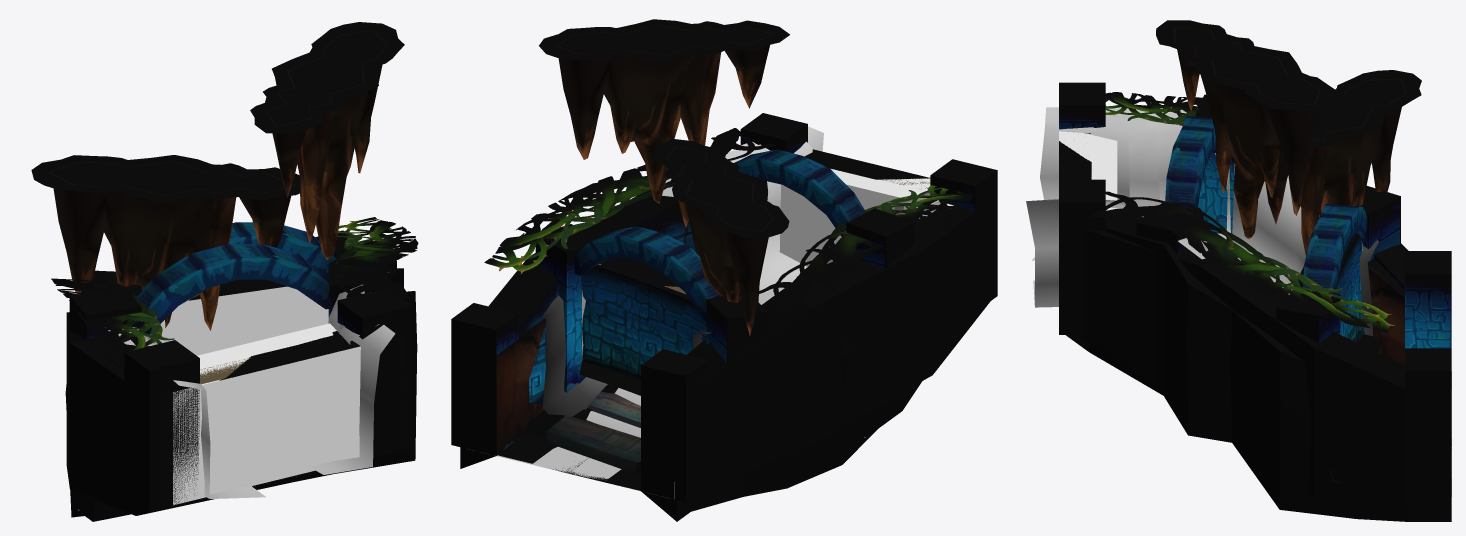
File: Dungeon_051_GoalStepD_003.fbx
The picture shows the model from 3 angles, left to right: view 1: azimuth 30°, elevation 25°; view 2: azimuth 150°, elevation 25°; view 3: azimuth 270°, elevation 25°; orthographic projection. The views are drawn at different scales.
Visible parts, largest first — view 1: DoorWay_NavMask (1) (×3), Dungeon_011_Iwa004_1, Dungeon_011_Iwa004_1 (1), Dun_051_StepD_001_Pillar, Dan1 (×3), Dun_051_StepD_001_Wall, Dun_051_Door_002_Arch (1) (×2), Dungeon_021_Tsuta_002, Dungeon_021_Tsuta_001, Dun_051_Door_002 (×2), Dun_011_Door_002_old, Dun_011_Door_003_WarpRoom; view 2: Dun_051_StepD_001_Wall, Dun_051_StepD_001_Pillar, Dungeon_011_Iwa004_1 (1), Dan1, Dungeon_011_Iwa004_1, Dun_051_Door_002 (×2), Dungeon_021_Tsuta_002, Dun_051_Door_002_Arch (1) (×2), Dungeon_021_Tsuta_001, DoorWay_NavMask (1), Dun_051_StepD_001_Step, Dan2 (+3 smaller); view 3: Dan1, Dun_051_StepD_001_Wall, Dun_051_StepD_001_Pillar, Dungeon_011_Iwa004_1 (1), Dungeon_021_Tsuta_001, Dungeon_011_Iwa004_1, Dungeon_021_Tsuta_002, Dun_051_Door_002_Arch (1) (×2), Dun_051_Door_002 (×2), DoorWay_NavMask (1) (×2).
Boxes of the visible parts, <box> form: DoorWay_NavMask (1) (×3): <box>155,286,360,505</box>; Dungeon_011_Iwa004_1: <box>31,155,299,330</box>; Dungeon_011_Iwa004_1 (1): <box>250,22,404,259</box>; Dun_051_StepD_001_Pillar: <box>69,230,413,512</box>; Dan1 (×3): <box>65,291,417,521</box>; Dun_051_StepD_001_Wall: <box>66,268,403,507</box>; Dun_051_Door_002_Arch (1) (×2): <box>135,222,337,336</box>; Dungeon_021_Tsuta_002: <box>51,217,418,361</box>; Dungeon_021_Tsuta_001: <box>105,272,395,498</box>; Dun_051_Door_002 (×2): <box>188,274,356,471</box>; Dun_011_Door_002_old: <box>219,331,360,380</box>; Dun_011_Door_003_WarpRoom: <box>200,358,248,384</box>; Dun_051_StepD_001_Wall: <box>488,190,990,490</box>; Dun_051_StepD_001_Pillar: <box>451,113,997,502</box>; Dungeon_011_Iwa004_1 (1): <box>539,19,789,203</box>; Dan1: <box>460,206,966,521</box>; Dungeon_011_Iwa004_1: <box>652,139,789,335</box>; Dun_051_Door_002 (×2): <box>581,149,929,380</box>; Dungeon_021_Tsuta_002: <box>484,128,973,308</box>; Dun_051_Door_002_Arch (1) (×2): <box>574,149,866,322</box>; Dungeon_021_Tsuta_001: <box>542,126,940,416</box>; DoorWay_NavMask (1): <box>779,168,953,266</box>; Dun_051_StepD_001_Step: <box>546,391,640,476</box>; Dan2: <box>497,290,865,498</box>; Dan1: <box>1066,156,1451,521</box>; Dun_051_StepD_001_Wall: <box>1078,229,1408,502</box>; Dun_051_StepD_001_Pillar: <box>1059,82,1451,503</box>; Dungeon_011_Iwa004_1 (1): <box>1156,20,1339,239</box>; Dungeon_021_Tsuta_001: <box>1026,107,1378,336</box>; Dungeon_011_Iwa004_1: <box>1265,70,1421,255</box>; Dungeon_021_Tsuta_002: <box>1090,92,1394,333</box>; Dun_051_Door_002_Arch (1) (×2): <box>1165,116,1367,293</box>; Dun_051_Door_002 (×2): <box>1059,133,1364,342</box>; DoorWay_NavMask (1) (×2): <box>1059,131,1117,210</box>.
Size of what is drawn, in the model's own units: 7.75 by 7.6 by 7.3.
